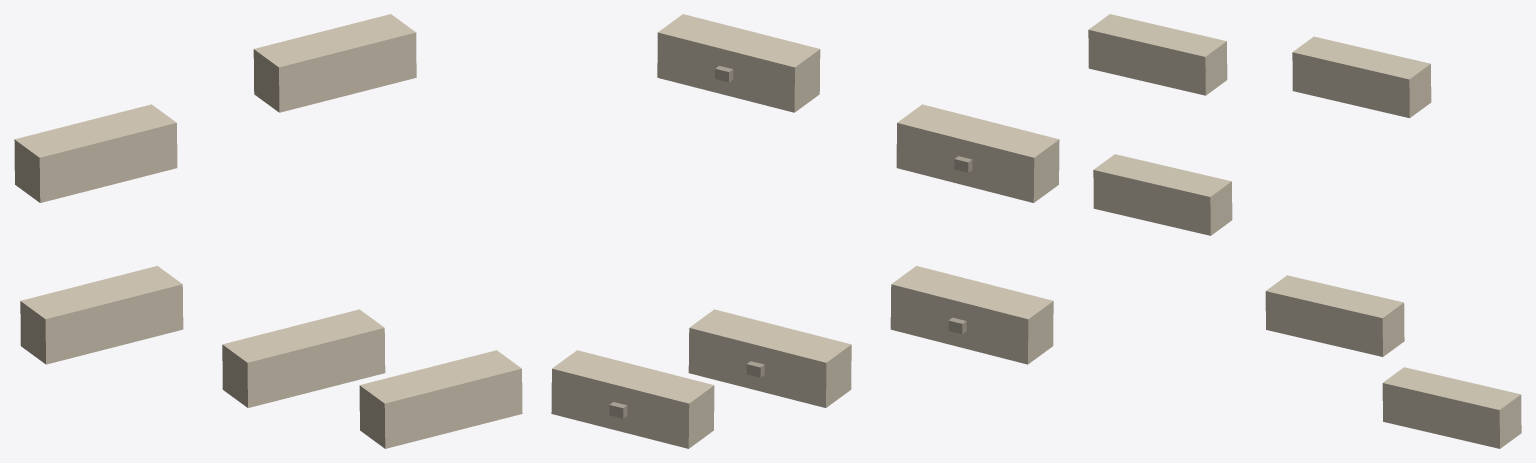
File: historic-palestine-03_14_3445_3087.glb
3 renders of one model, left to right at view 1: azimuth 30°, elevation 25°; view 2: azimuth 150°, elevation 25°; view 3: azimuth 330°, elevation 25°, orthographic. The views are drawn at different scales.
Visible parts, largest first — view 1: Building_.002, Building_.004, Building_, Building_.001, Building_.003; view 2: Building_.002, Building_.004, Building_.001, Building_.003, Building_; view 3: Building_.003, Building_.004, Building_, Building_.002, Building_.001.
Boxes of the visible parts, x1,y1,x2,y2 form: Building_.002: (20, 266, 183, 364); Building_.004: (359, 350, 522, 448); Building_: (253, 14, 416, 112); Building_.001: (14, 104, 177, 202); Building_.003: (222, 309, 385, 407); Building_.002: (890, 266, 1053, 364); Building_.004: (551, 350, 714, 448); Building_.001: (896, 104, 1059, 202); Building_.003: (688, 309, 851, 407); Building_: (657, 14, 820, 112); Building_.003: (1265, 275, 1404, 356); Building_.004: (1382, 367, 1521, 448); Building_: (1292, 36, 1431, 118); Building_.002: (1093, 154, 1232, 235); Building_.001: (1088, 14, 1227, 95).
Bounding box in the file's own units: 82.83 × 67.05 × 8.7.
